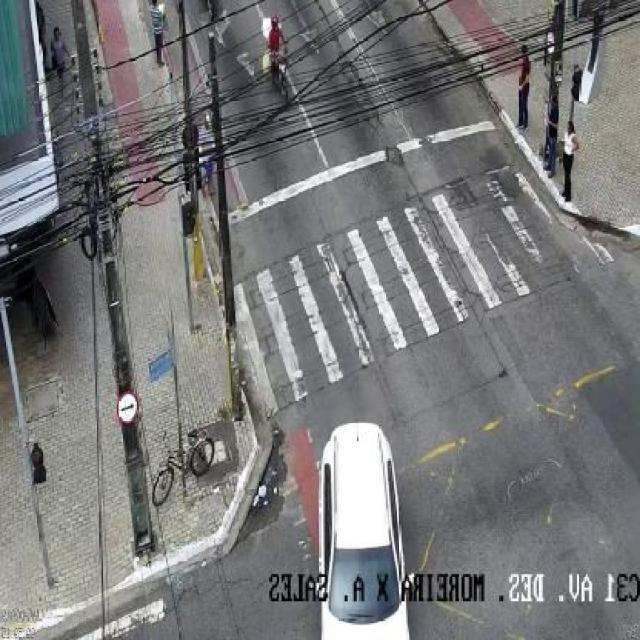Car: (306, 422, 419, 640)
Cycle: (145, 424, 220, 510), (256, 18, 296, 107)
